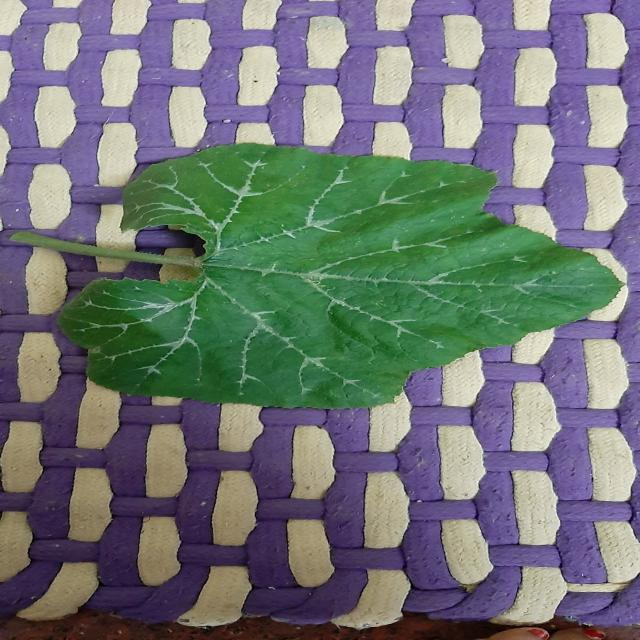pumpkin: (14, 144, 621, 409)
